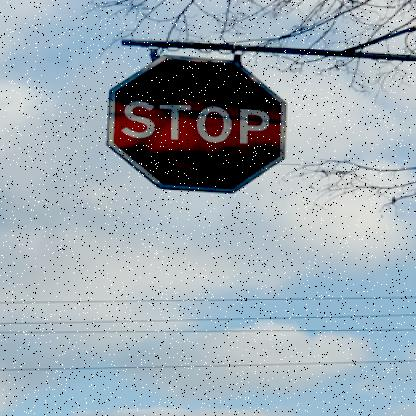stop: (104, 52, 286, 192)
